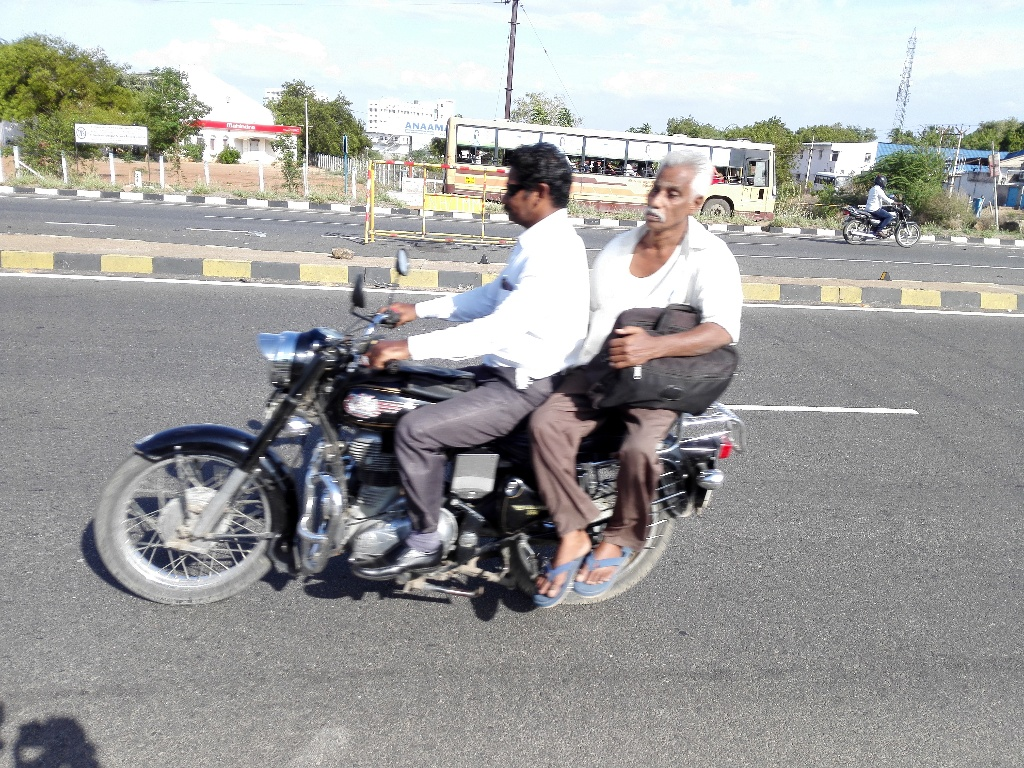biker: (75, 68, 776, 643), (827, 144, 932, 256)
helmet: (869, 166, 894, 194)
nohelmet: (487, 131, 591, 243), (634, 133, 722, 253)
